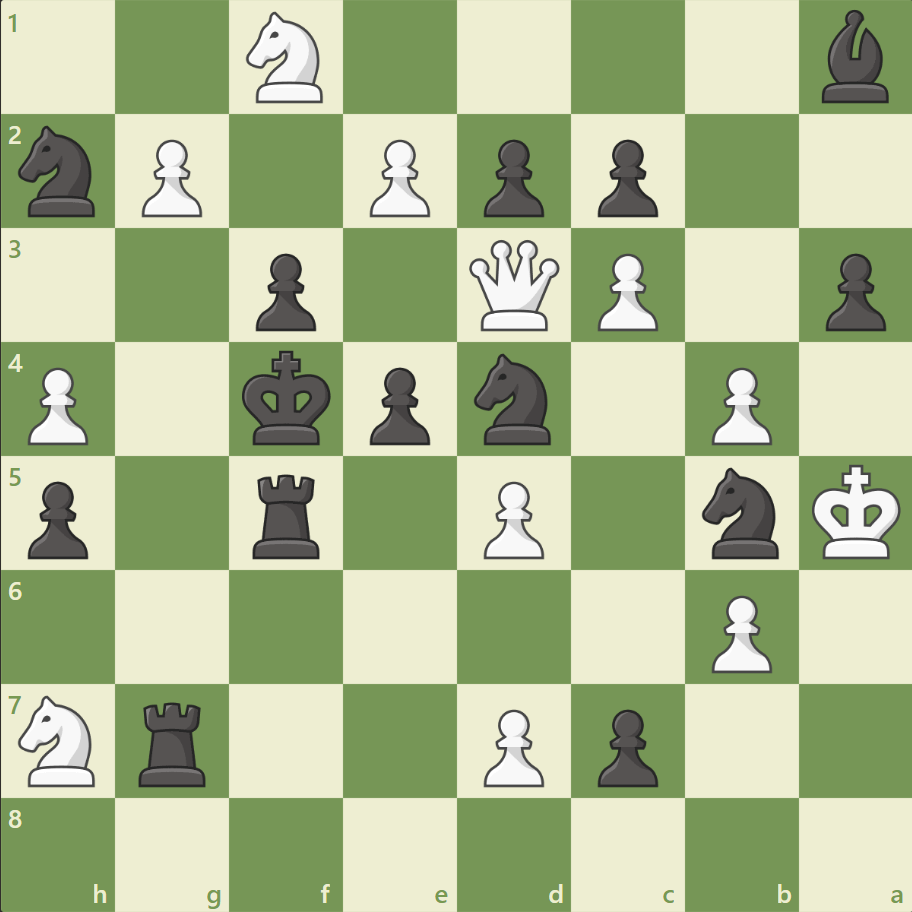K: (806, 458, 906, 566)
N: (11, 688, 108, 791), (238, 7, 335, 110)
P: (474, 700, 549, 791), (701, 586, 776, 677), (474, 473, 549, 564), (701, 359, 776, 450), (20, 359, 95, 450), (133, 132, 208, 223), (588, 246, 662, 337), (361, 132, 435, 223)
Q: (464, 236, 563, 335)
b: (812, 6, 896, 109)
k: (238, 344, 338, 452)
n: (692, 461, 789, 564), (465, 348, 562, 450), (11, 121, 108, 223)
p: (20, 473, 95, 564), (247, 246, 322, 337), (474, 132, 549, 223), (588, 700, 662, 791), (361, 359, 435, 450), (815, 246, 889, 337), (588, 132, 662, 223)
r: (246, 466, 329, 563), (133, 693, 215, 790)
